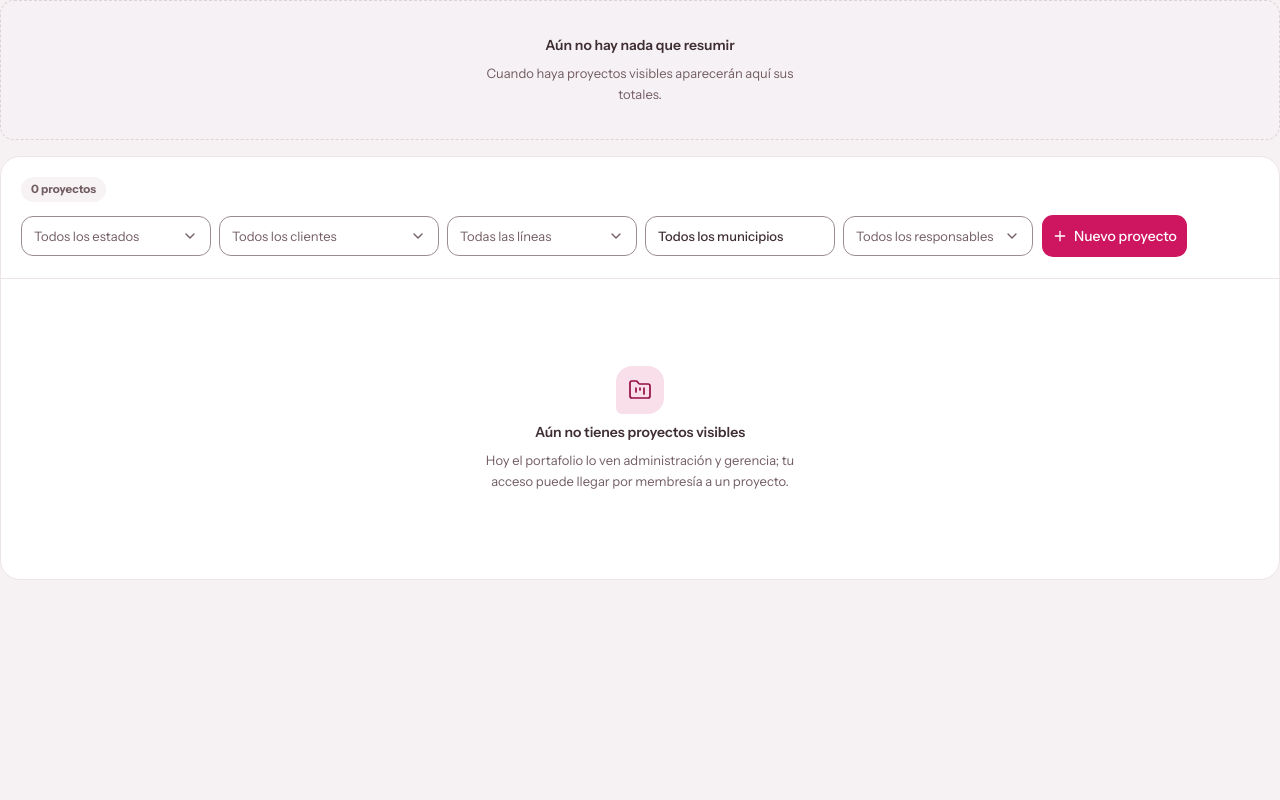
it: ProjectList › gives the visibility copy priority over the active filter for a caller without portfolio access
Click the dropdown named "Filtrar por estado" at (116, 236), box top-left (21, 216), bottom-right (211, 256)
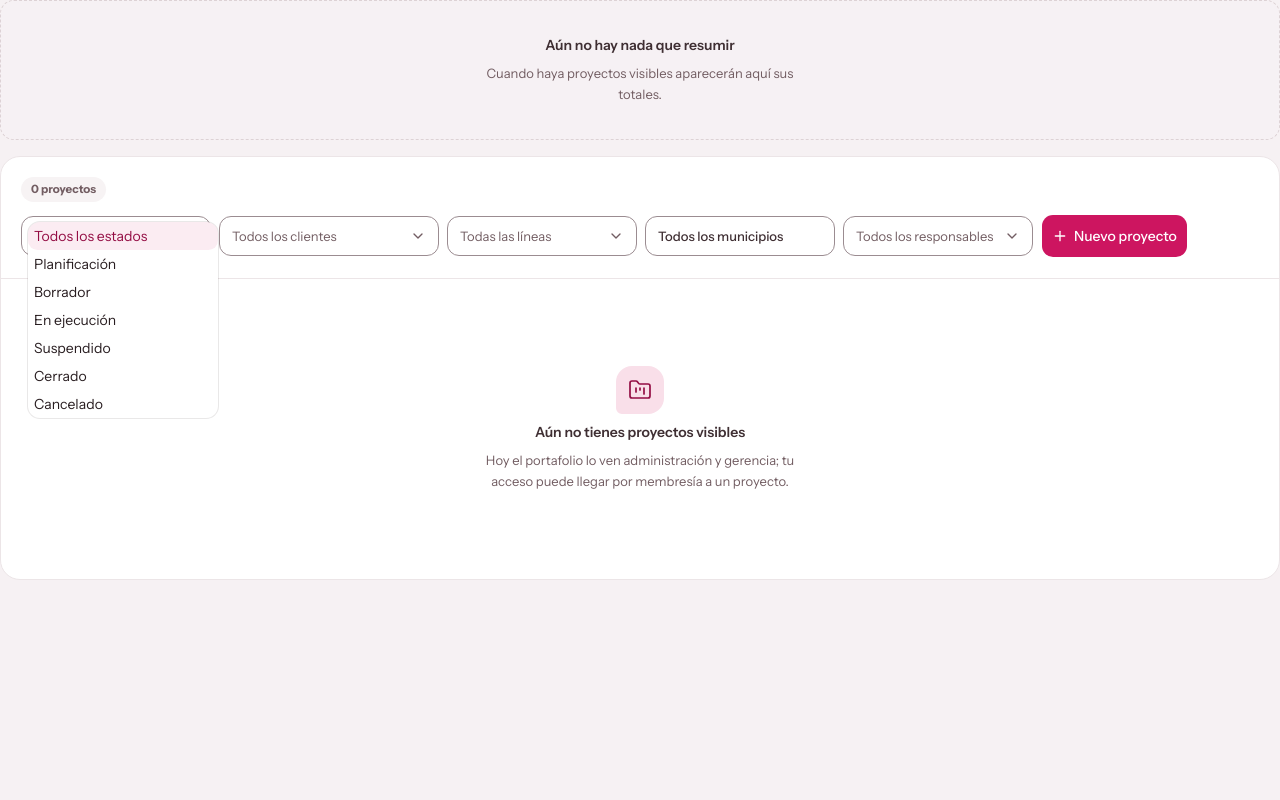
Click the option "En ejecución" at (75, 320), box top-left (34, 311), bottom-right (116, 329)
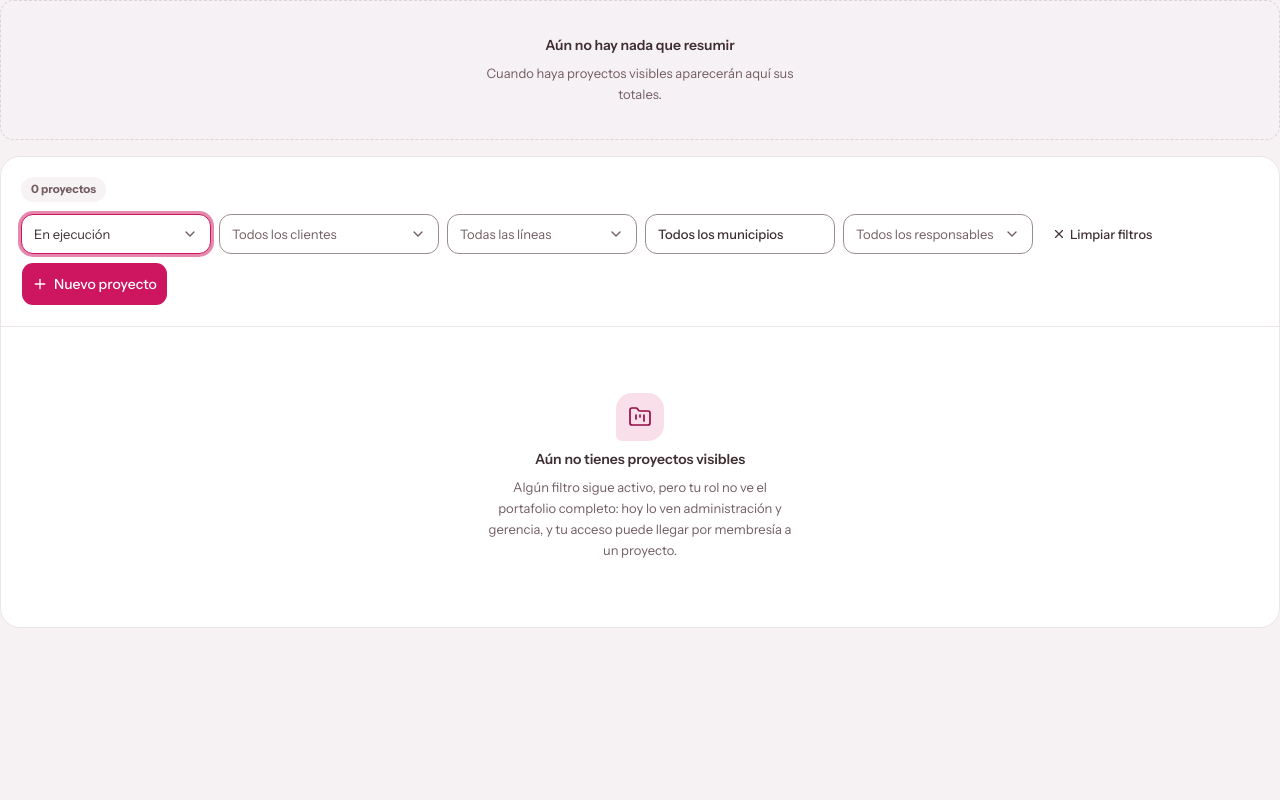
Check: the text "Aún no tienes proyectos visibles" is shown, box top-left (535, 449), bottom-right (745, 469)
Check: the text "Algún filtro sigue activo" is shown, box top-left (489, 479), bottom-right (791, 558)
